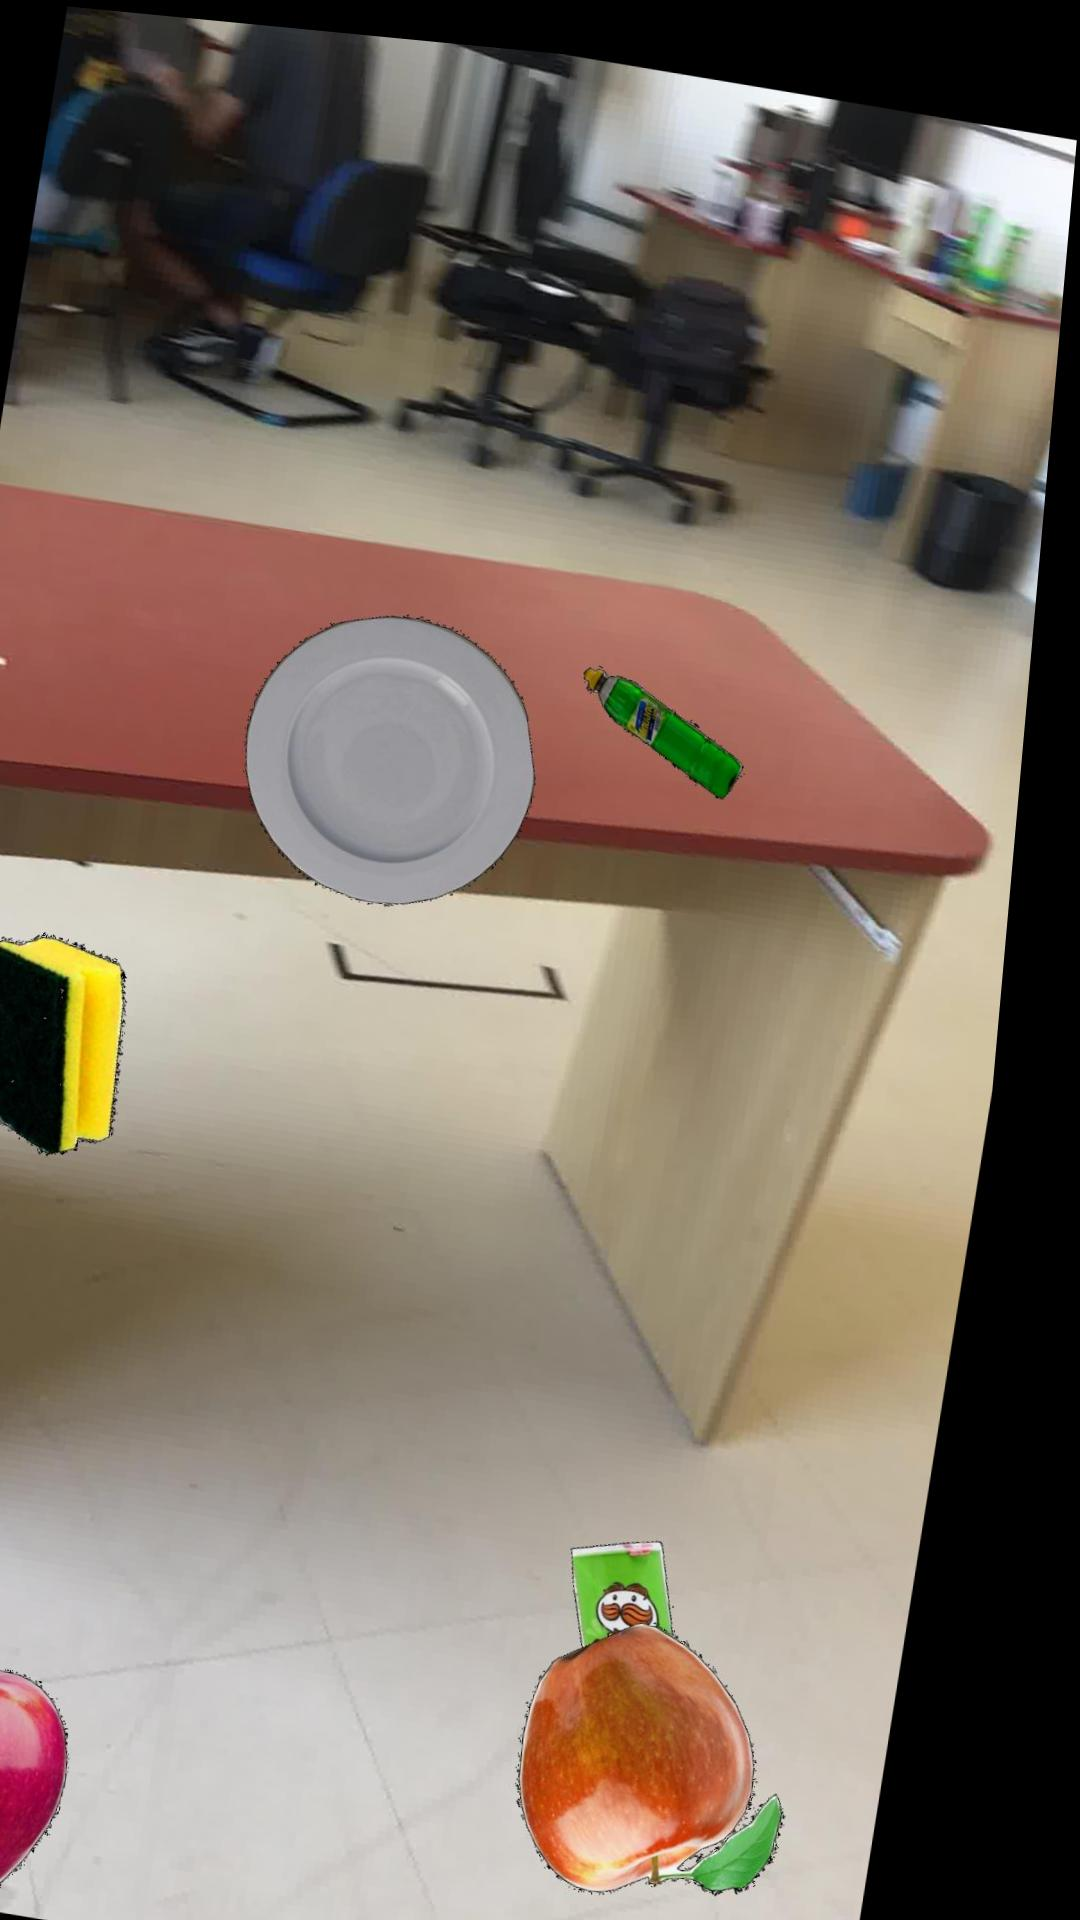apple: (549, 1605, 816, 1875), (0, 1647, 102, 1894)
cleaner: (596, 651, 757, 781)
plate: (260, 604, 550, 893)
pringles: (599, 1523, 703, 1630)
sponge: (0, 930, 145, 1151)
